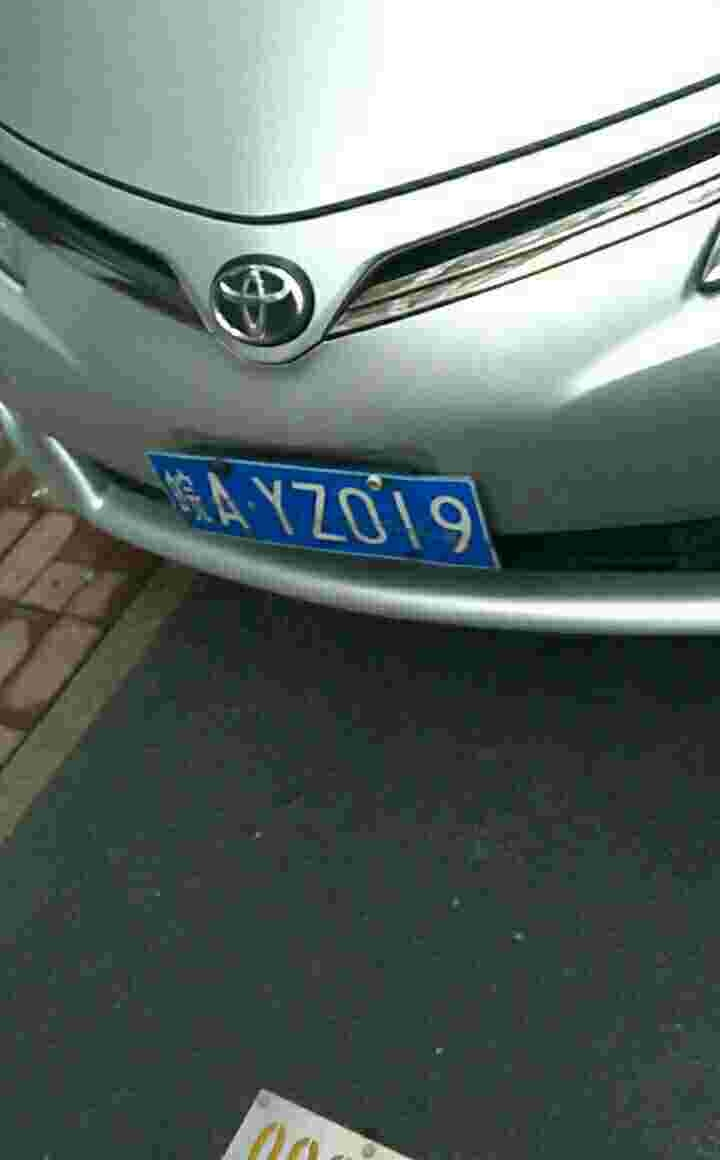license_plate: (152, 442, 486, 576)
